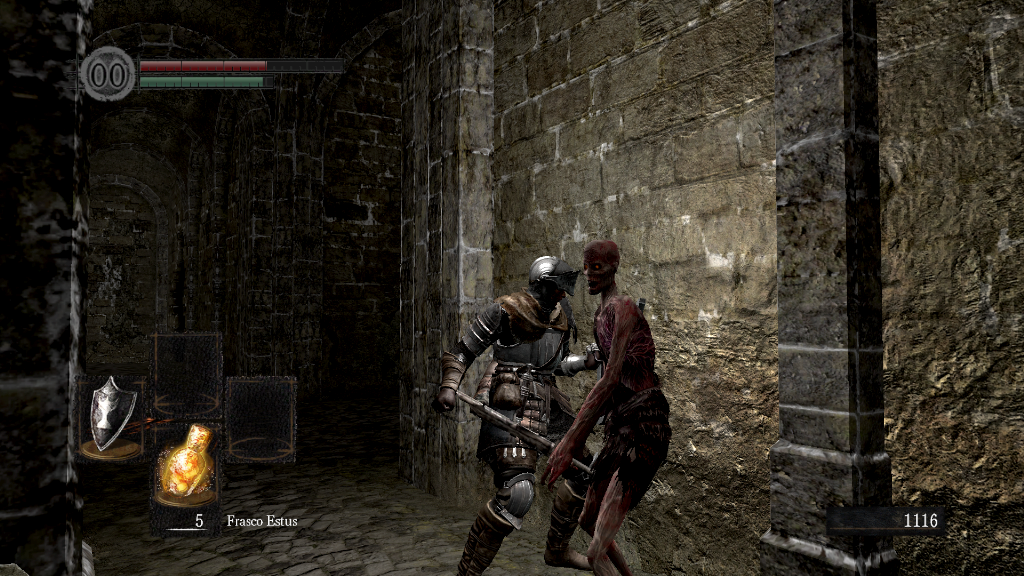health: (138, 58, 343, 71)
hollow: (548, 242, 673, 576)
humanity: (80, 45, 136, 102)
player: (430, 256, 598, 576)
souls: (825, 506, 945, 536)
stamina: (138, 74, 274, 88)
